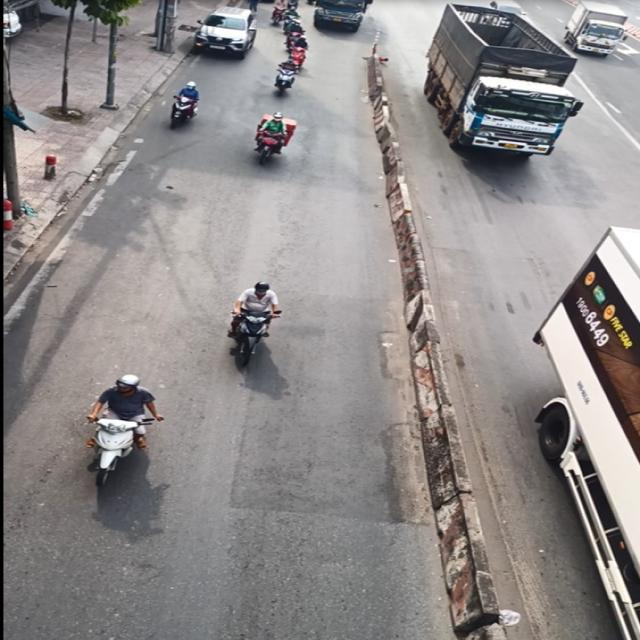motor: (69, 374, 178, 499), (221, 275, 282, 374), (244, 107, 298, 173), (162, 73, 207, 133)
truck: (419, 2, 585, 178)
